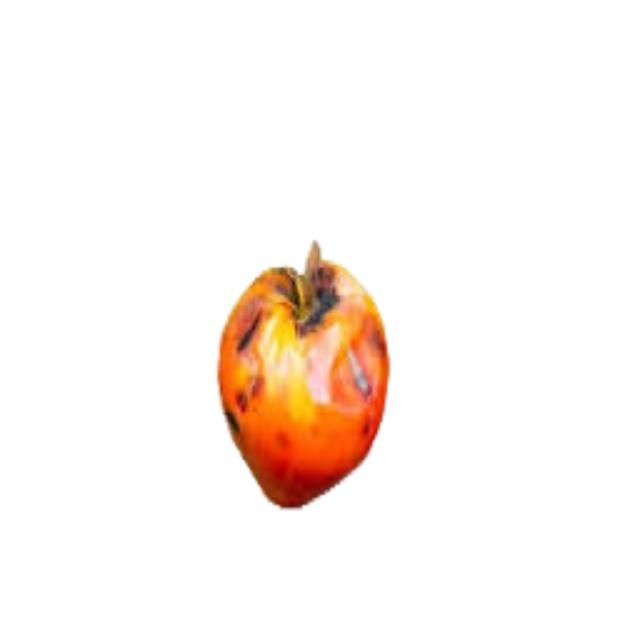defect: (207, 240, 393, 512)
